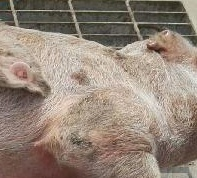text: (0, 54, 43, 93)
